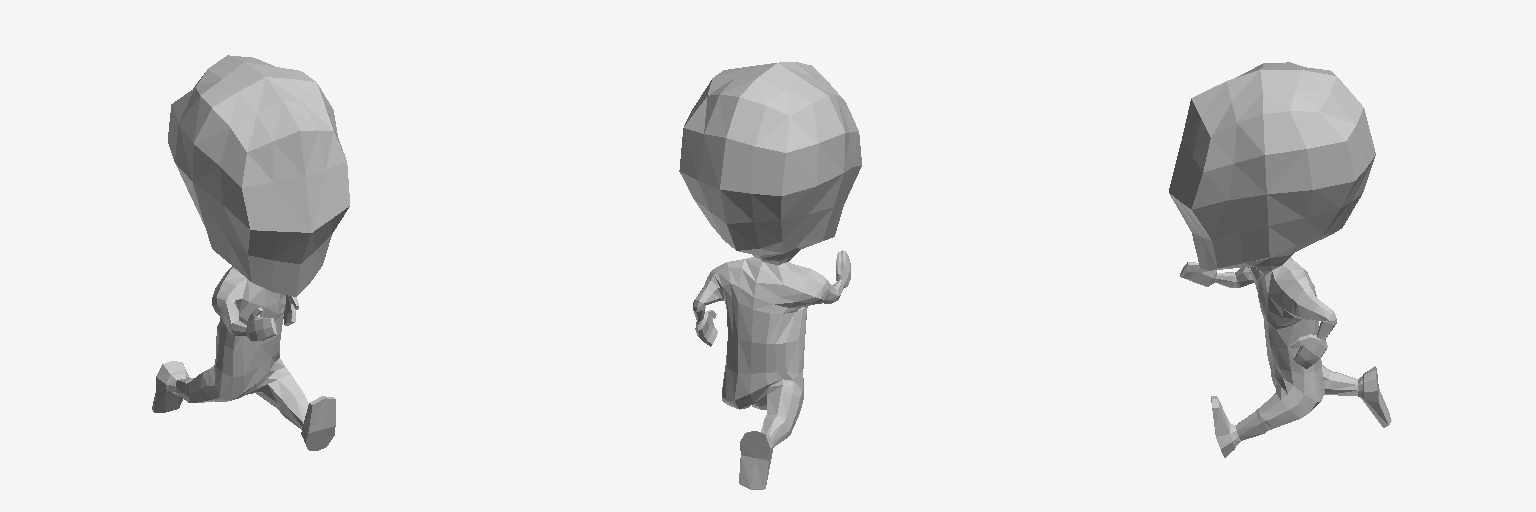
File: char_000016.obj
3 views of the same model, side by side, from view 1: azimuth 30°, elevation 25°; view 2: azimuth 150°, elevation 25°; view 3: azimuth 270°, elevation 25° (orthographic).
Visible parts, largest first — view 1: lp_guy_mesh_Cube; view 2: lp_guy_mesh_Cube; view 3: lp_guy_mesh_Cube.
Boxes of the visible parts, <box> form: lp_guy_mesh_Cube: <box>152,55,349,450</box>; lp_guy_mesh_Cube: <box>679,62,861,489</box>; lp_guy_mesh_Cube: <box>1169,62,1391,457</box>.
Size of the model in its own units: 0.7344 by 1.87 by 1.01.